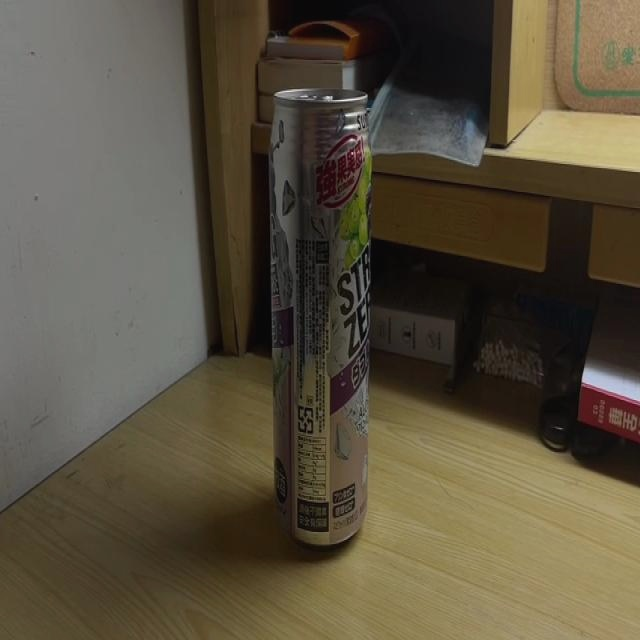Liquor: (266, 82, 373, 546)
